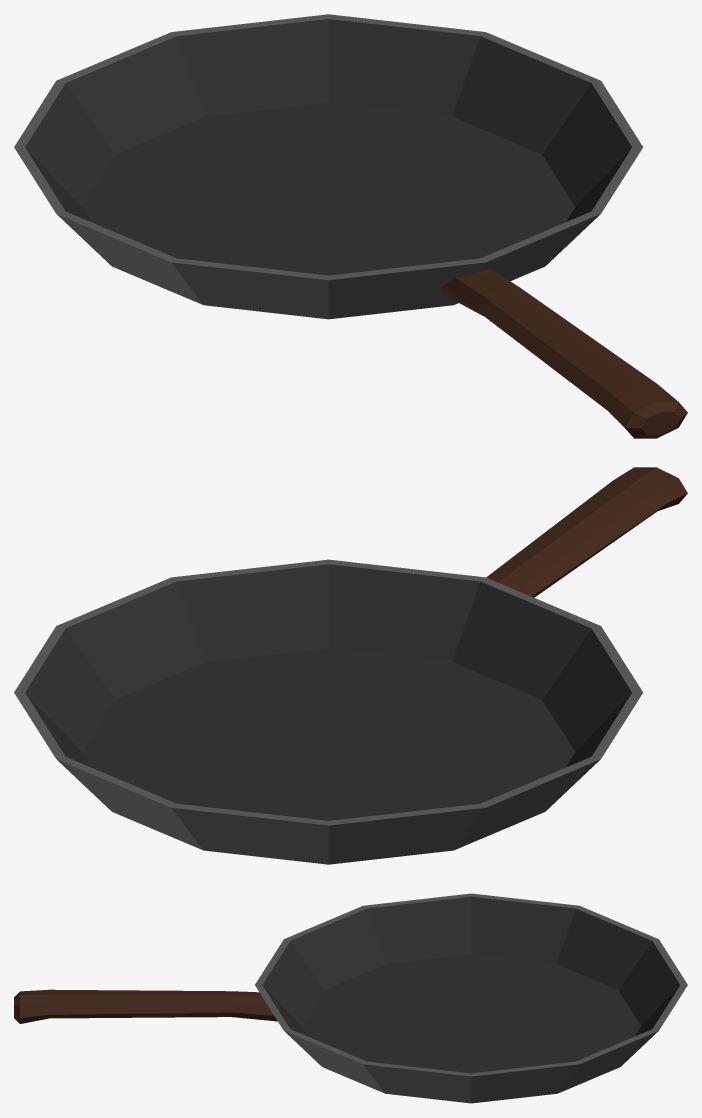
File: Pan_vc.fbx
The picture shows the model from 3 angles, top to bottom: view 1: azimuth 30°, elevation 25°; view 2: azimuth 150°, elevation 25°; view 3: azimuth 270°, elevation 25°; orthographic projection. The views are drawn at different scales.
Visible parts, largest first — view 1: Pan_vc; view 2: Pan_vc; view 3: Pan_vc.
Part boxes in pixels (x1=…): Pan_vc: x1=14, y1=14, x2=687, y2=438; Pan_vc: x1=14, y1=467, x2=687, y2=864; Pan_vc: x1=14, y1=893, x2=687, y2=1103.
Size of the model in its own units: 18.56 by 2.16 by 28.88.
